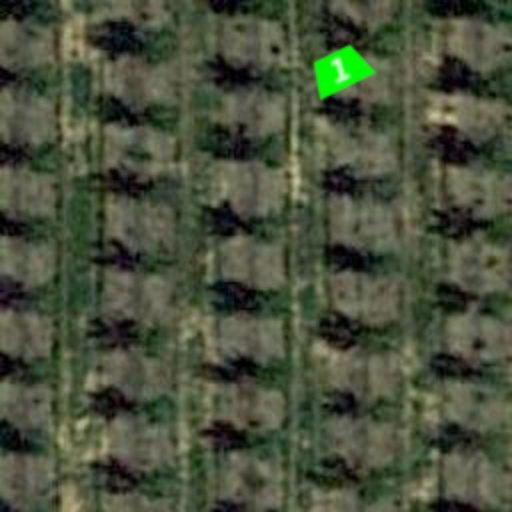trapezoid: (298, 28, 382, 112)
